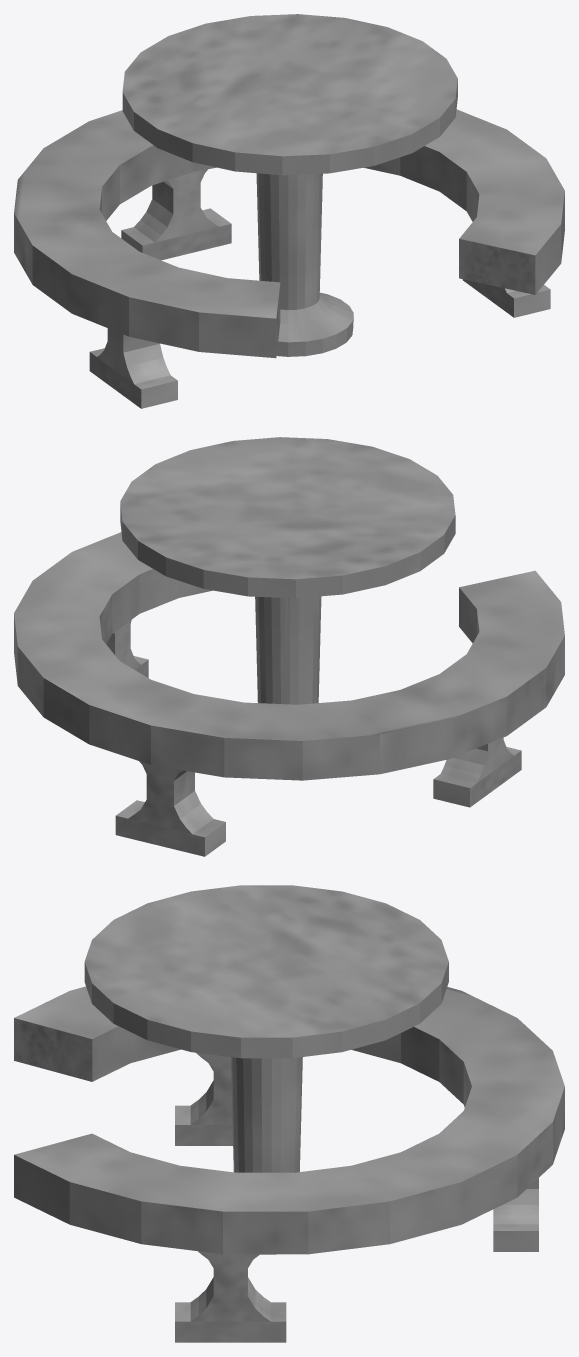
The model's file is MesaPedraLOD0.fbx.
3 renders of one model, top to bottom at view 1: azimuth 30°, elevation 25°; view 2: azimuth 150°, elevation 25°; view 3: azimuth 270°, elevation 25°, orthographic. The views are drawn at different scales.
Parts seen in each view (by area): view 1: MesaDeConcreto; view 2: MesaDeConcreto; view 3: MesaDeConcreto.
Part boxes in pixels (x1,y1,x2,y2): MesaDeConcreto: (14,14,564,408); MesaDeConcreto: (14,437,564,856); MesaDeConcreto: (14,885,564,1342).
Size of the model in its own units: 198 by 98.09 by 184.
